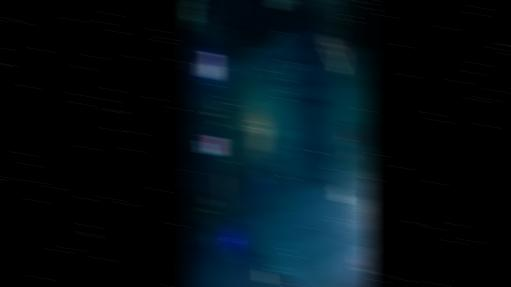Fish: (323, 34, 346, 78), (306, 172, 327, 187), (346, 121, 359, 145), (339, 145, 354, 165), (332, 185, 347, 202), (338, 127, 351, 145), (352, 257, 367, 272), (357, 143, 370, 160), (362, 121, 371, 144), (270, 156, 281, 172), (255, 171, 268, 183), (293, 59, 302, 75), (261, 70, 272, 83), (271, 0, 286, 9), (271, 172, 282, 184), (275, 150, 286, 162), (272, 75, 283, 87), (248, 64, 259, 74), (352, 257, 363, 266), (259, 50, 268, 60), (275, 60, 284, 70), (303, 99, 322, 103), (265, 52, 274, 60), (253, 77, 262, 85), (272, 53, 281, 61), (274, 94, 283, 102), (352, 0, 360, 3)
